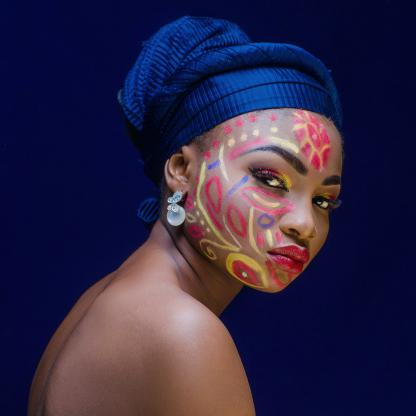Eye: (246, 168, 290, 194), (312, 194, 336, 215)
Mouth: (266, 244, 311, 275)
Nose: (278, 194, 317, 241)
